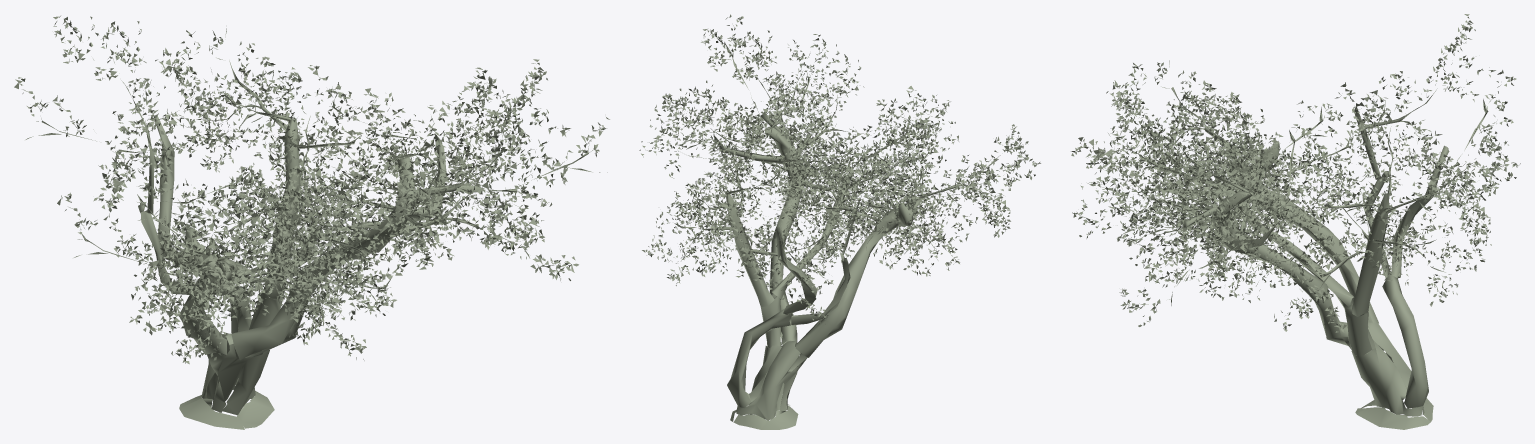
File: polyhaven-island-tree-02-mid-lod.glb
3 views of the same model, side by side, from view 1: azimuth 30°, elevation 25°; view 2: azimuth 150°, elevation 25°; view 3: azimuth 270°, elevation 25° (orthographic). The views are drawn at different scales.
Parts seen in each view (by area): view 1: Island_Tree_02_Mid_island_tree_02_leaves, Island_Tree_02_Mid_island_tree_02, Island_Tree_02_Mid_island_tree_02_branches; view 2: Island_Tree_02_Mid_island_tree_02_leaves, Island_Tree_02_Mid_island_tree_02, Island_Tree_02_Mid_island_tree_02_branches; view 3: Island_Tree_02_Mid_island_tree_02_leaves, Island_Tree_02_Mid_island_tree_02, Island_Tree_02_Mid_island_tree_02_branches.
Part boxes in pixels (bbox=[...]): Island_Tree_02_Mid_island_tree_02_leaves: bbox=[14, 16, 609, 364]; Island_Tree_02_Mid_island_tree_02: bbox=[138, 115, 482, 429]; Island_Tree_02_Mid_island_tree_02_branches: bbox=[24, 22, 607, 356]; Island_Tree_02_Mid_island_tree_02_leaves: bbox=[639, 14, 1040, 324]; Island_Tree_02_Mid_island_tree_02: bbox=[713, 112, 918, 429]; Island_Tree_02_Mid_island_tree_02_branches: bbox=[647, 25, 1036, 313]; Island_Tree_02_Mid_island_tree_02_leaves: bbox=[1071, 14, 1520, 332]; Island_Tree_02_Mid_island_tree_02: bbox=[1147, 106, 1449, 429]; Island_Tree_02_Mid_island_tree_02_branches: bbox=[1077, 28, 1516, 327].
Bounding box in the file's own units: 3.84 × 3.4 × 4.05.
